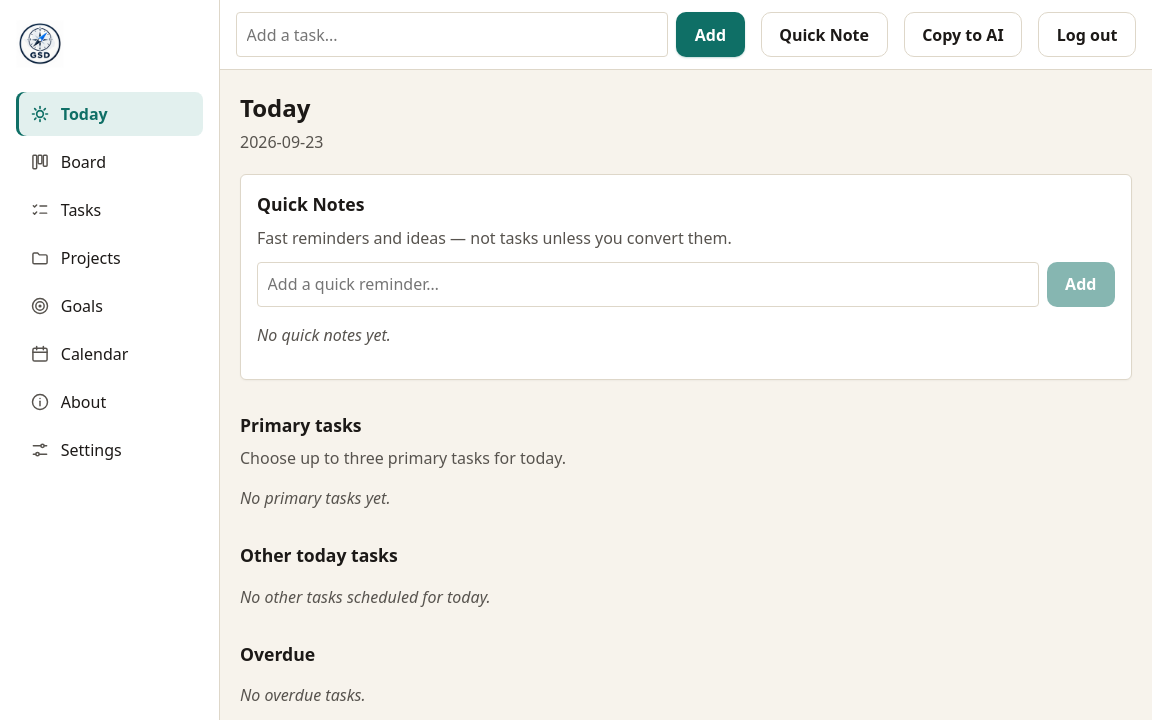
Scenario: AuthGate — signed in (Supabase configured) › clicking the Tasks nav link actually navigates to the Tasks view (regression: a Quick Notes cloud error must never block routing)
expect the heading "Primary tasks" is shown: met, box [240,413,362,437]
expect the text "Untriaged inbox" is not shown: met
Click the link "Tasks": point(65, 210) [30,199,101,221]
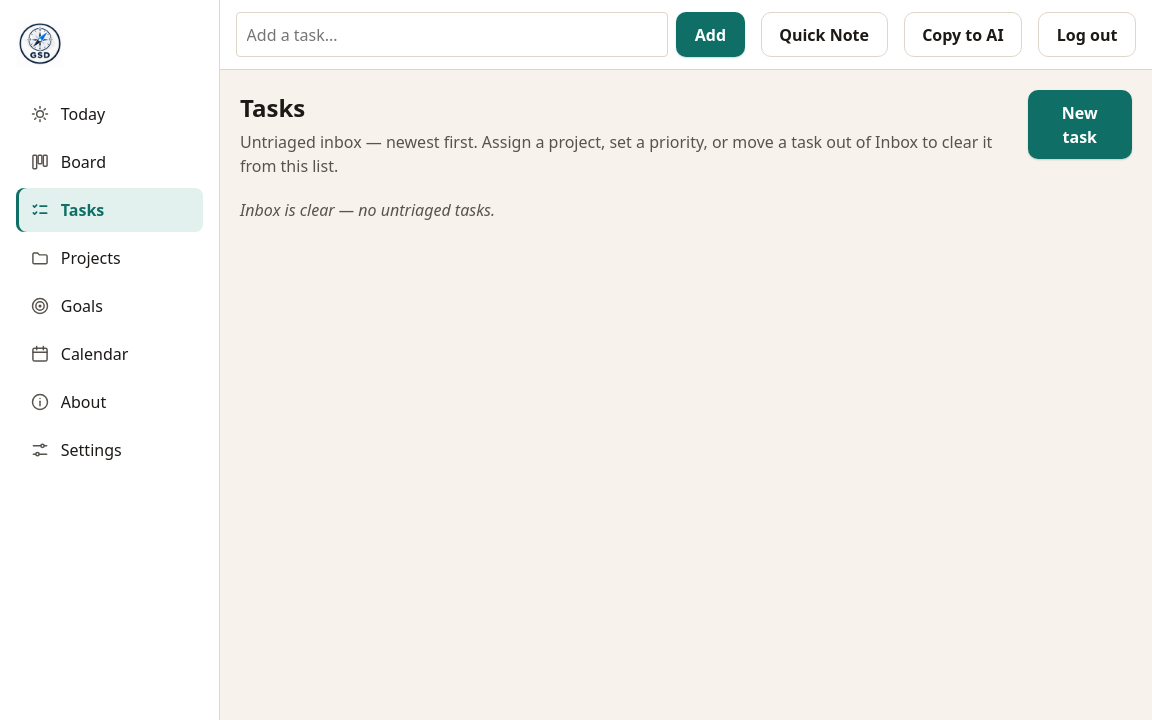
expect the text "Untriaged inbox" is shown: met, box [240,131,992,177]
expect the heading "Primary tasks" is gone: met
